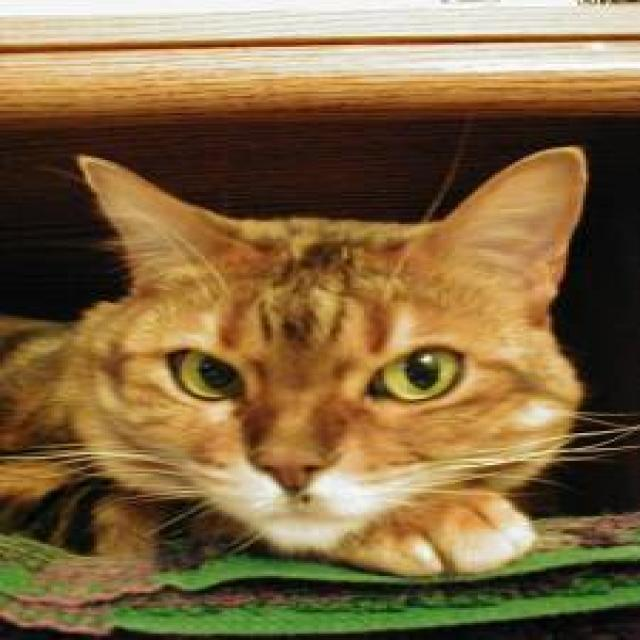Bengal: (71, 143, 580, 550)
